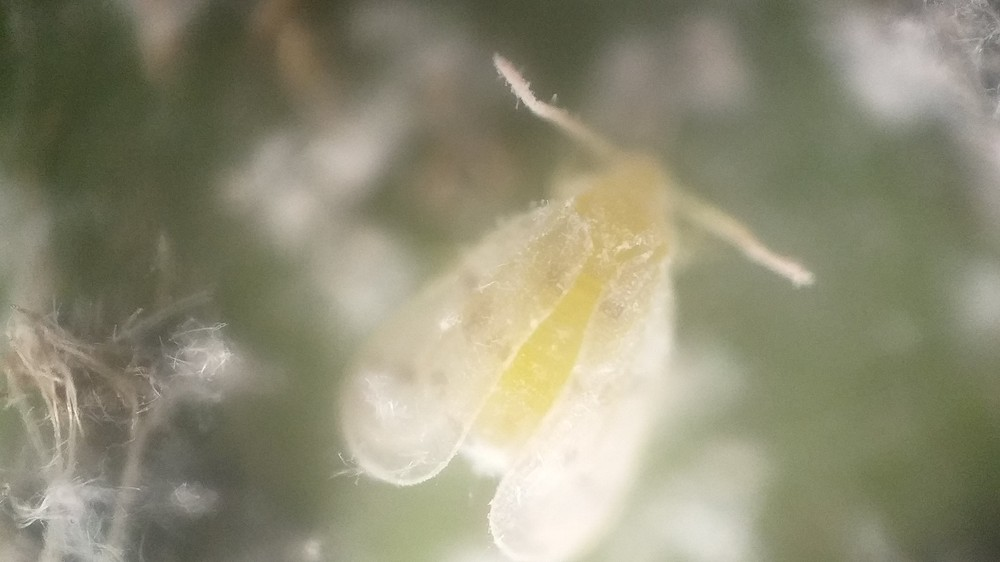Mosca Blanca: (324, 39, 834, 562)
